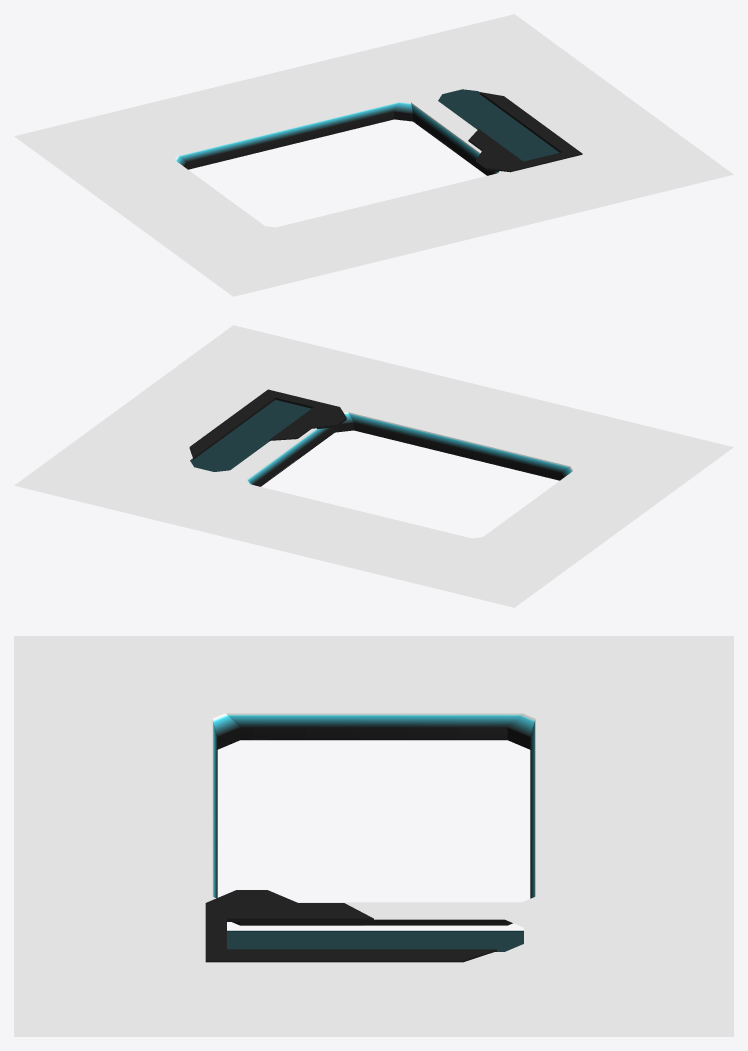
Rendered from Repair_Tablet.fbx.
The picture shows the model from 3 angles, top to bottom: view 1: azimuth 30°, elevation 25°; view 2: azimuth 150°, elevation 25°; view 3: azimuth 270°, elevation 25°; orthographic projection. The views are drawn at different scales.
Visible parts, largest first — view 1: Repair_Tablet; view 2: Repair_Tablet; view 3: Repair_Tablet.
Boxes of the visible parts, x1,y1,x2,y2 form: Repair_Tablet: [14, 14, 733, 296]; Repair_Tablet: [14, 325, 733, 607]; Repair_Tablet: [14, 636, 733, 1036].
Bounding box in the file's own units: 42.46 × 1.34 × 32.23.
